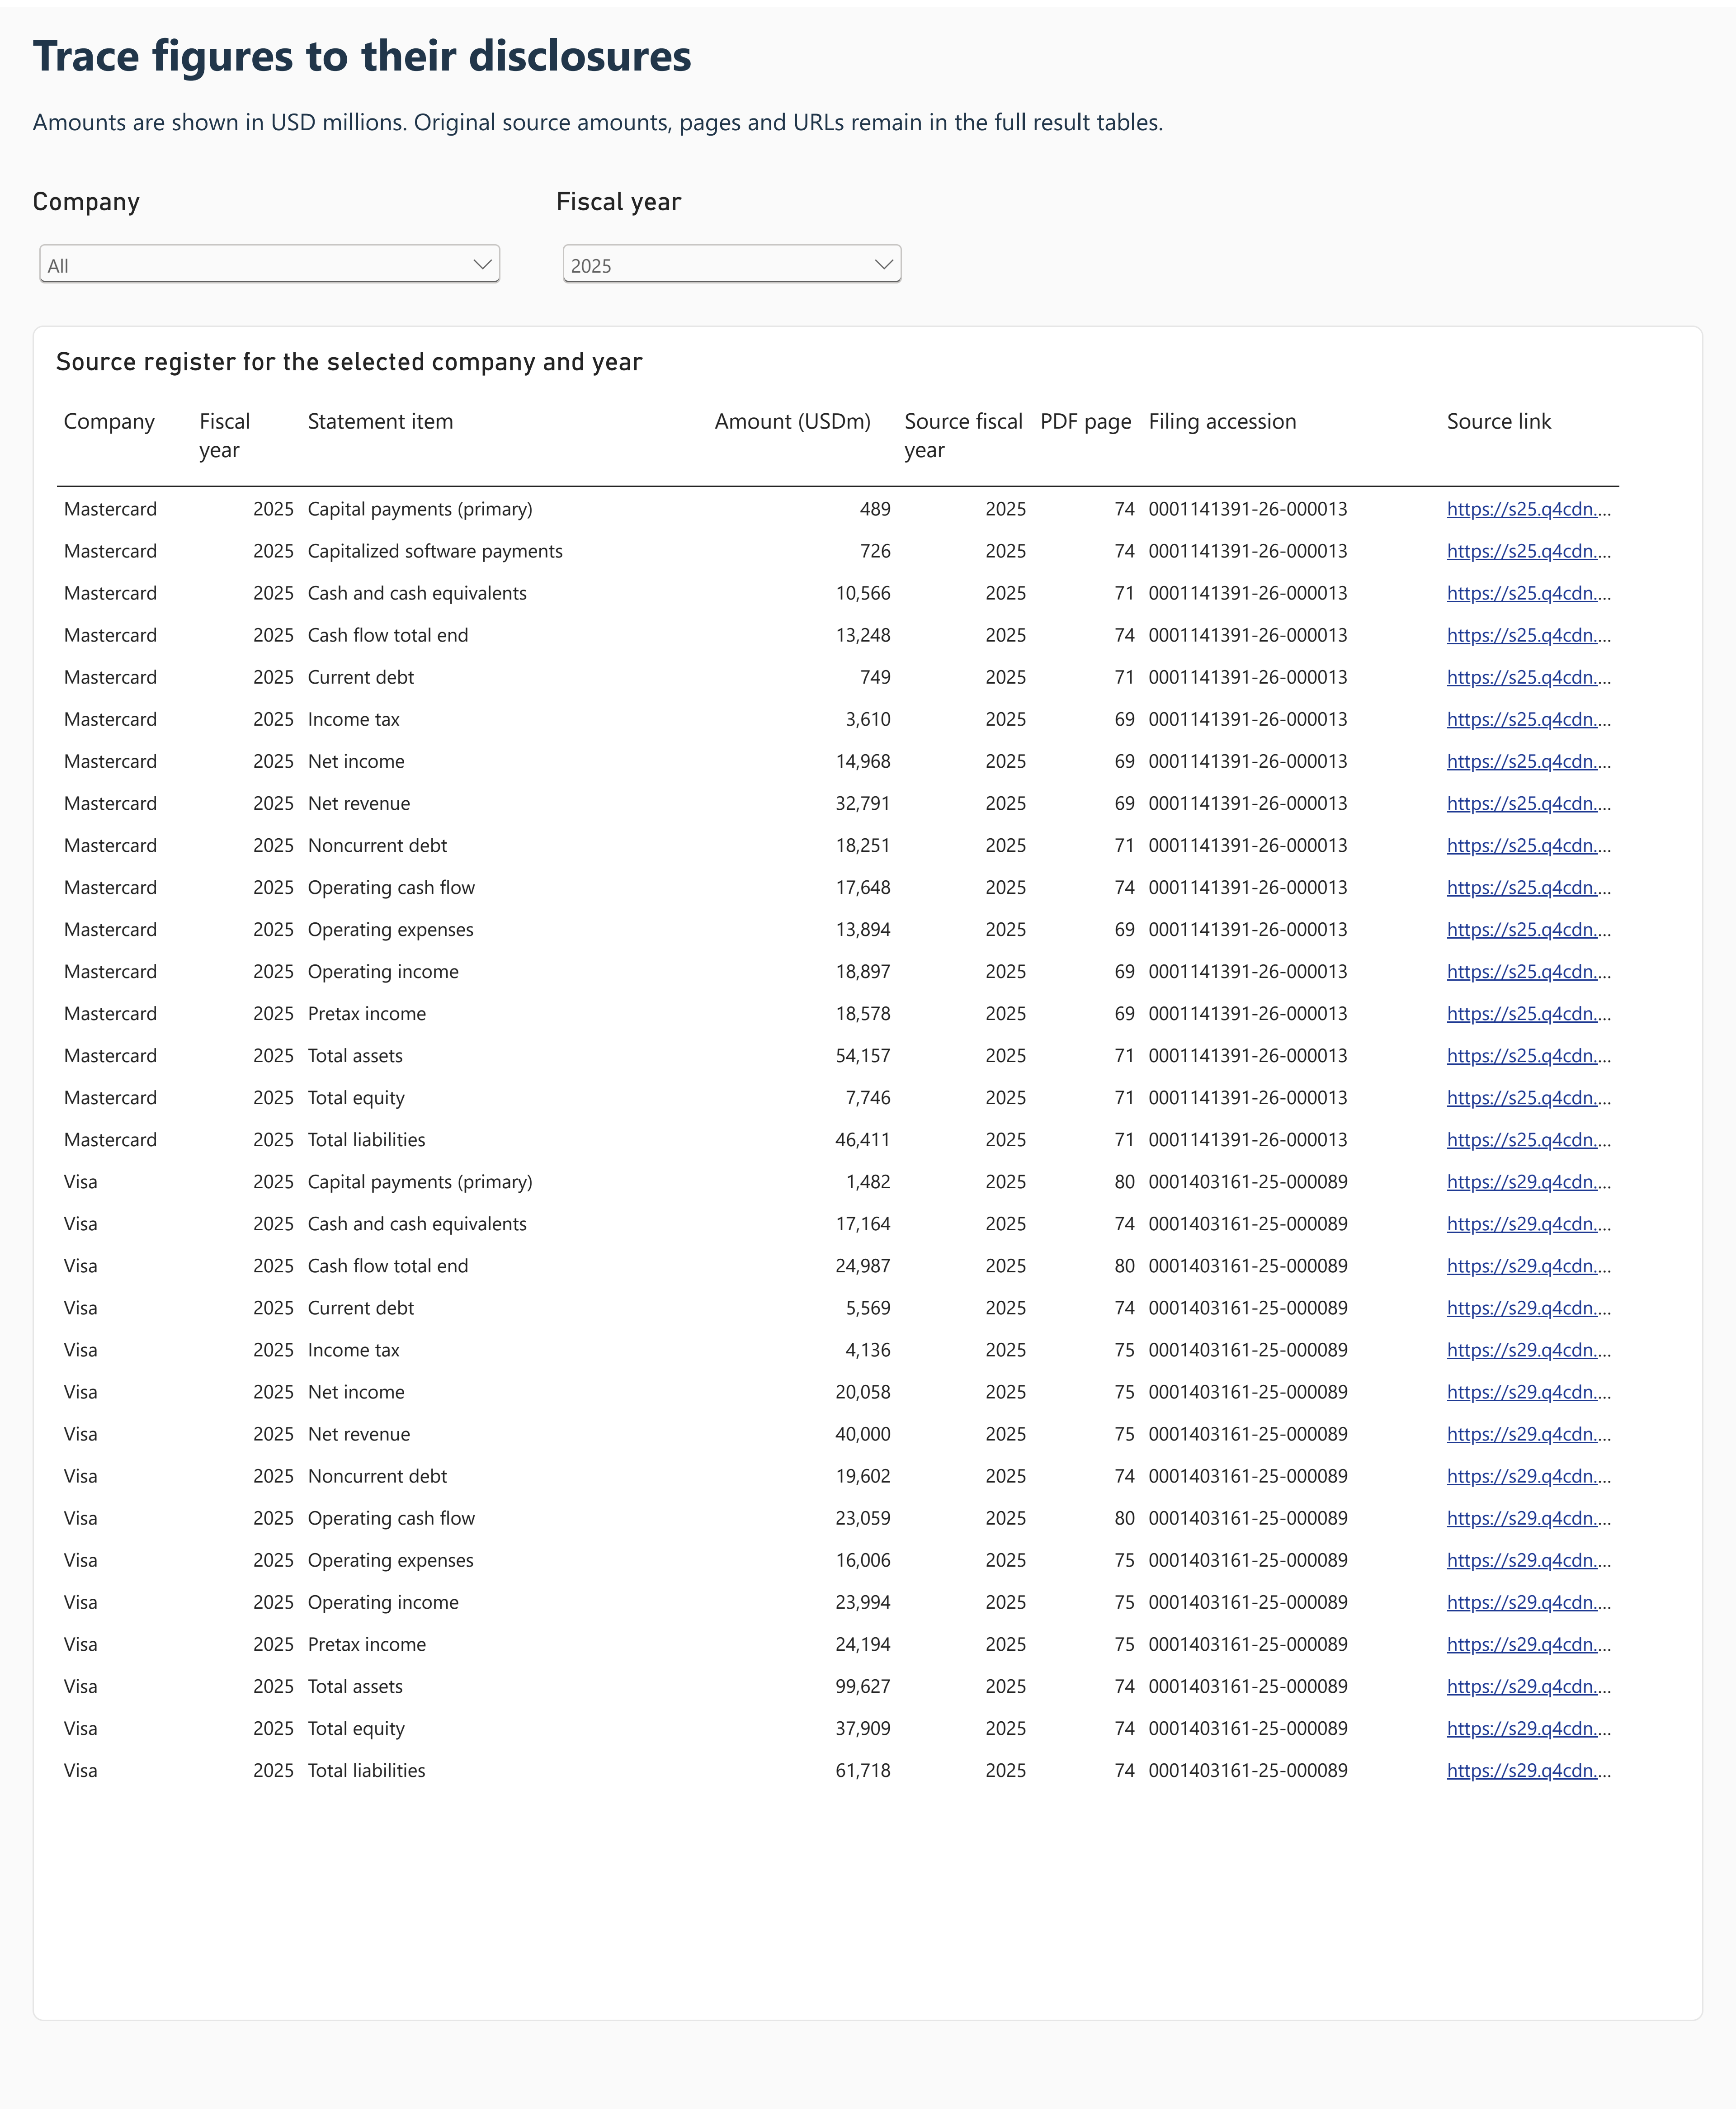

What the dashboard file says about the page in this screenshot:
{"tool":"powerbi","page":{"name":"04 Source Traceability","canvas":[1280,1550],"ordinal":3},"visuals":[{"type":"tableEx","title":"Source register for the selected company and year","fields":{"Values":["Companies.CompanyName","FiscalYears.FiscalYear","Sources.Item display display","Sources.Amount USDm","Sources.SourceFiscalYear","Sources.PDFPage","Sources.FilingAccession","Sources.SourceURL"]},"box":[24,235,1232,1250],"z":0},{"type":"slicer","title":"Company","fields":{"Values":["Companies.CompanyName"]},"box":[24,132,350,80],"z":3000},{"type":"slicer","title":"Fiscal year","fields":{"Values":["FiscalYears.FiscalYear"]},"box":[410,132,260,80],"z":4000},{"type":"textbox","box":[24,12,1232,58],"z":8000},{"type":"textbox","box":[24,72,1232,48],"z":8000}]}

Visuals, with their boxes in screenshot pixels (x1, y1, x2, y2), scaled from the page's 1280x1550 canvas onto the 1736x2116 screenshot:
"Source register for the selected company and year" tableEx: bbox=(33, 321, 1703, 2027)
"Company" slicer: bbox=(33, 180, 507, 289)
"Fiscal year" slicer: bbox=(556, 180, 909, 289)
textbox: bbox=(33, 16, 1703, 95)
textbox: bbox=(33, 98, 1703, 164)
